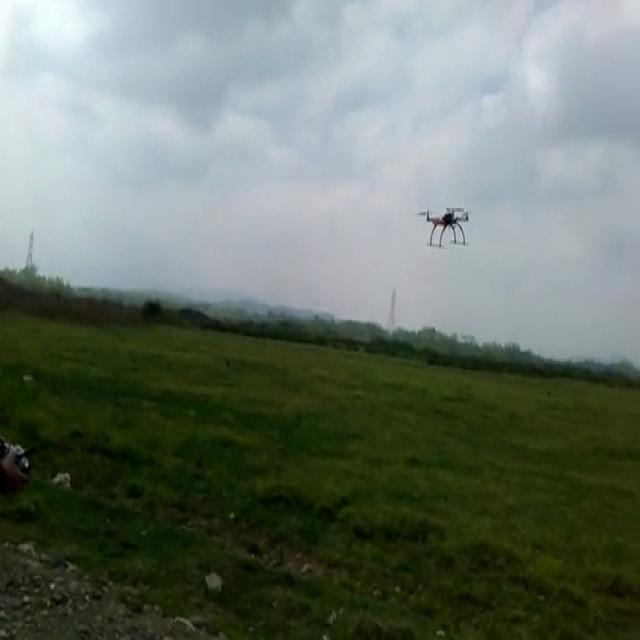drone: (414, 198, 473, 252)
